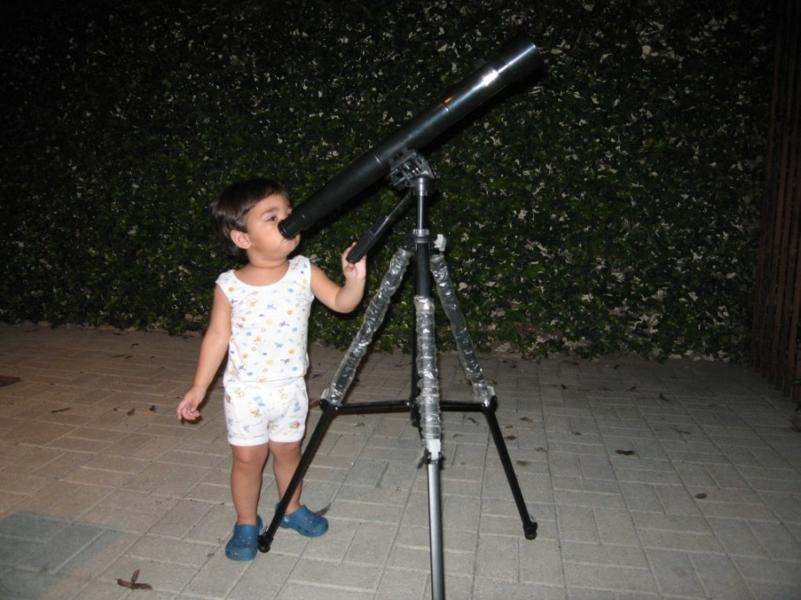person: (179, 177, 370, 563)
